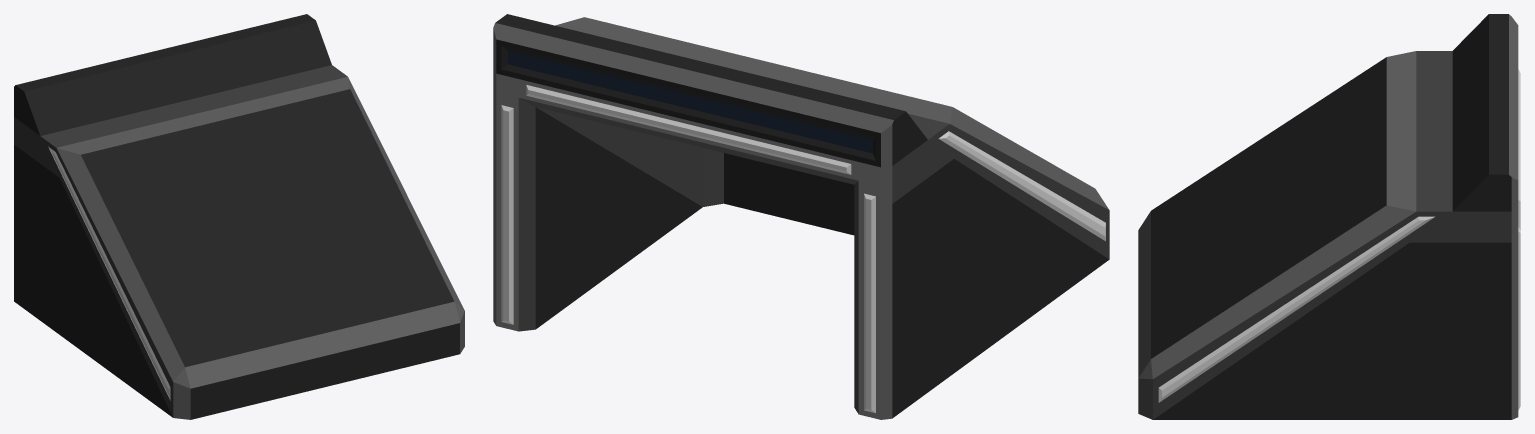
File: SubwayEntrance.fbx
The picture shows the model from 3 angles, left to right: view 1: azimuth 30°, elevation 25°; view 2: azimuth 150°, elevation 25°; view 3: azimuth 270°, elevation 25°; orthographic projection. The views are drawn at different scales.
Parts seen in each view (by area): view 1: SubwayEntrance; view 2: SubwayEntrance; view 3: SubwayEntrance.
Boxes of the visible parts, <box> form: SubwayEntrance: <box>14,14,464,419</box>; SubwayEntrance: <box>493,14,1109,419</box>; SubwayEntrance: <box>1138,14,1520,419</box>.
Bounding box in the file's own units: 45.82 × 32.44 × 45.81.
